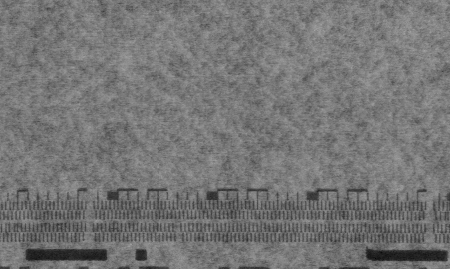Broken hole: (171, 223, 186, 243)
Oblique printing: (431, 209, 450, 234)
